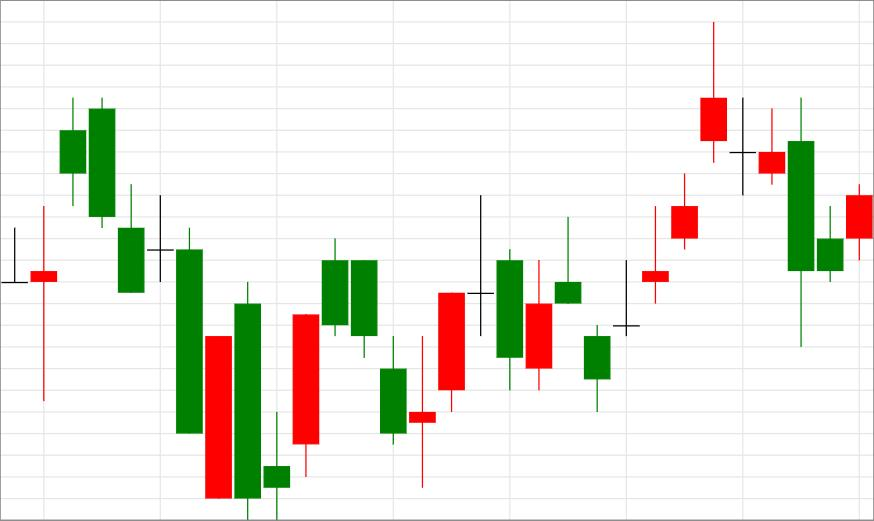shooting_star_fall: (584, 22, 727, 412)
